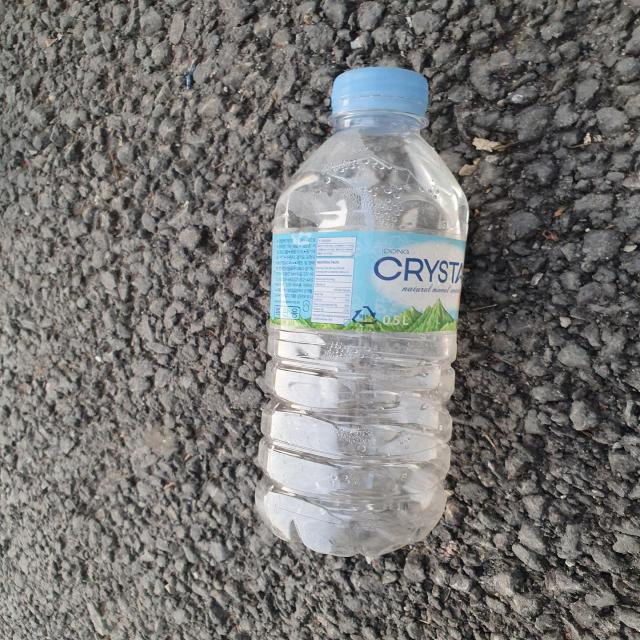plastic: (256, 66, 469, 557)
